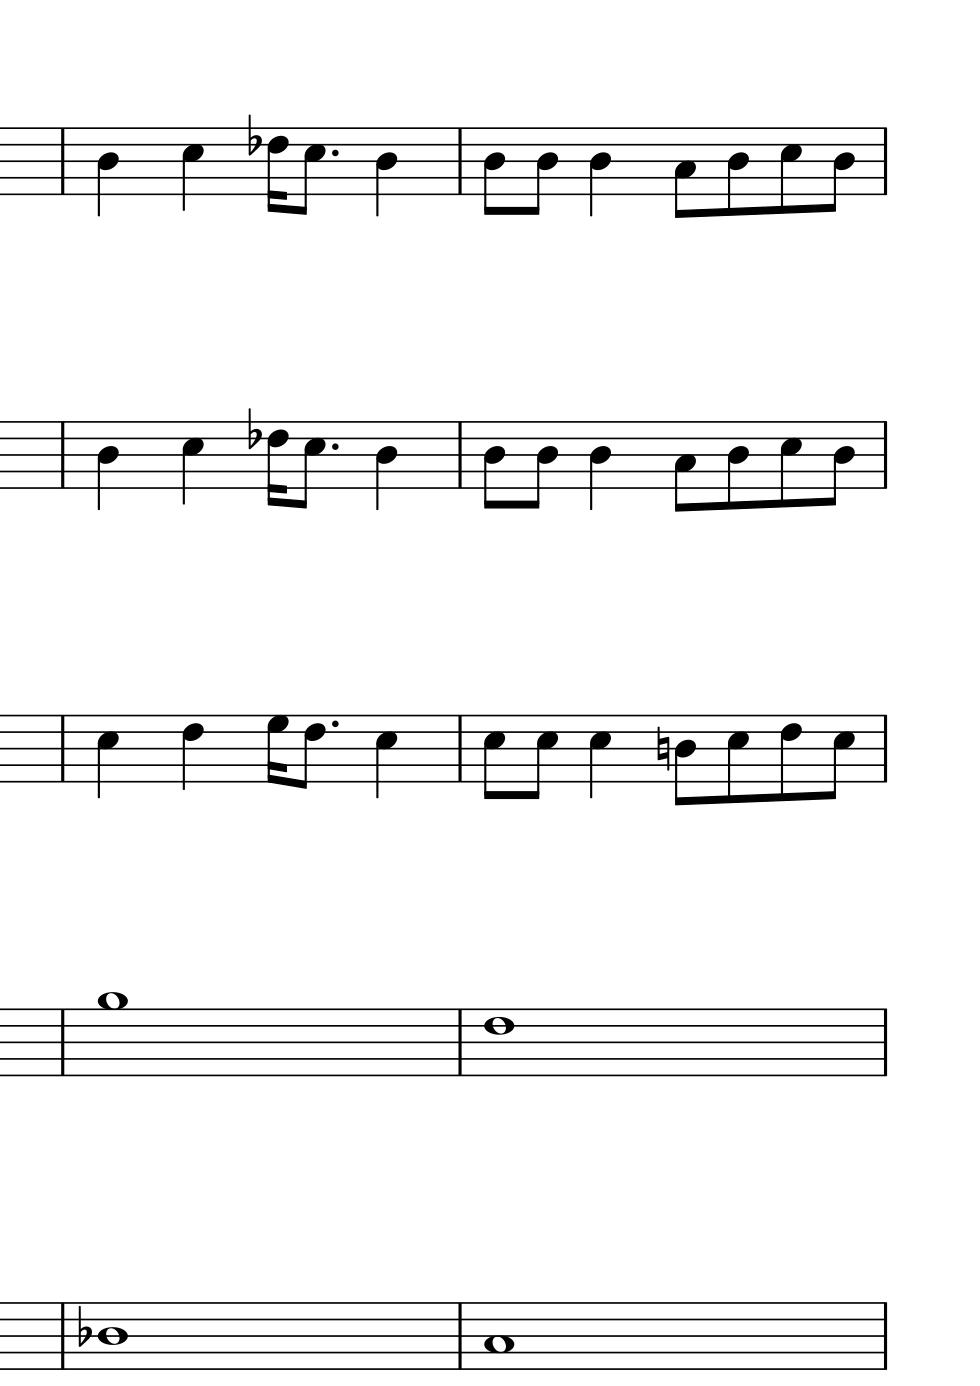16_6: (264, 420, 288, 508), (264, 127, 288, 213)
16_7: (264, 713, 288, 786)
1_3: (482, 1300, 514, 1372)
1_4: (95, 1299, 129, 1372)
1_6: (482, 1007, 515, 1078)
1_9: (94, 990, 129, 1078)
4_4: (94, 419, 120, 512), (587, 126, 612, 218), (95, 125, 120, 220), (587, 419, 611, 513), (373, 125, 398, 218), (373, 419, 398, 512)
4_5: (179, 125, 206, 215), (179, 419, 205, 508), (94, 712, 120, 801), (373, 713, 399, 801), (587, 713, 612, 801)
4_6: (179, 713, 205, 794)
8_3: (672, 419, 697, 514), (672, 125, 697, 220)
8_4: (525, 125, 558, 217), (525, 419, 558, 511), (824, 125, 855, 215), (825, 419, 855, 508), (480, 125, 509, 217), (482, 419, 509, 511), (724, 125, 750, 220), (724, 419, 750, 513), (672, 713, 696, 809)
8_5: (823, 712, 856, 801), (528, 713, 559, 801), (297, 126, 326, 218), (297, 420, 326, 512), (775, 125, 803, 218), (775, 419, 802, 512), (724, 713, 749, 806), (482, 713, 506, 802)
8_6: (777, 712, 803, 804), (297, 713, 327, 791)
Flat: (244, 406, 261, 453), (244, 113, 260, 159), (75, 1303, 91, 1347)
Natural: (654, 725, 670, 772)
Single_barline: (53, 1008, 73, 1076), (451, 1008, 469, 1076), (451, 716, 469, 782), (876, 1008, 893, 1076), (54, 716, 71, 782), (451, 1304, 468, 1369), (877, 421, 893, 489), (877, 715, 893, 783), (877, 1302, 893, 1370), (877, 128, 893, 195), (55, 1303, 71, 1370), (54, 128, 70, 194), (452, 128, 468, 194), (54, 422, 70, 488), (452, 422, 468, 488)
dot: (328, 717, 342, 732), (328, 147, 342, 161), (328, 440, 342, 454)
